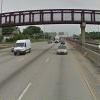Bridge: (2, 8, 96, 31)
